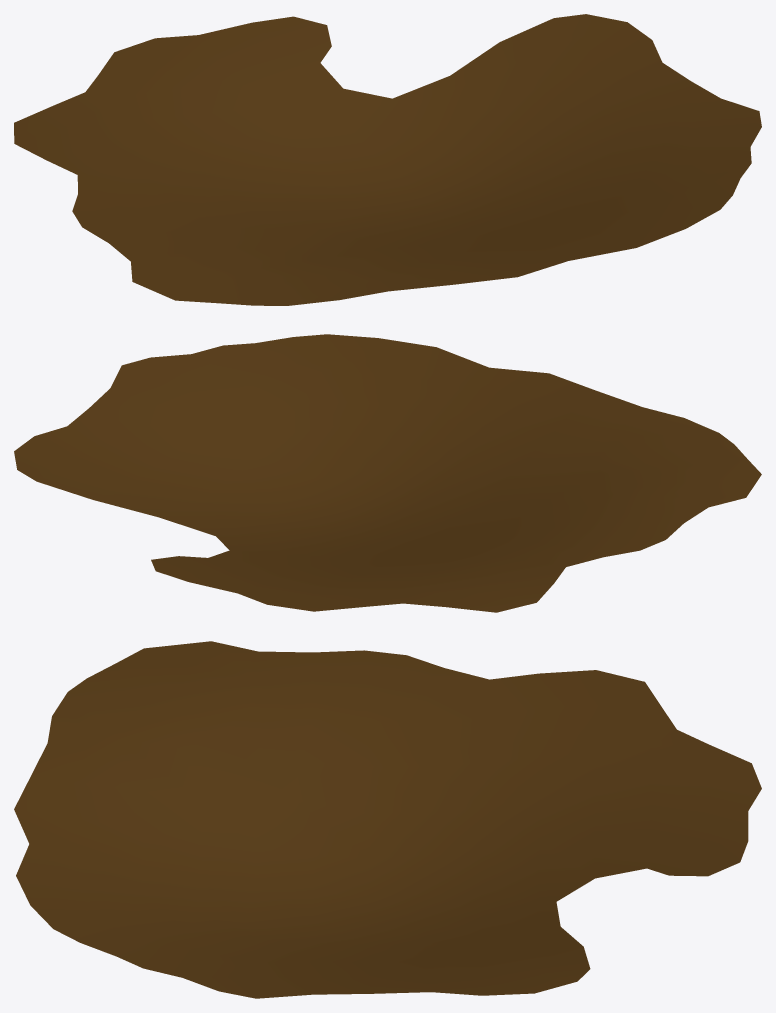
File: MudPuddle.FBX
The picture shows the model from 3 angles, top to bottom: view 1: azimuth 30°, elevation 25°; view 2: azimuth 150°, elevation 25°; view 3: azimuth 270°, elevation 25°; orthographic projection. The views are drawn at different scales.
Parts seen in each view (by area): view 1: MudPuddle; view 2: MudPuddle; view 3: MudPuddle.
Part boxes in pixels (x1=…): MudPuddle: x1=14, y1=14, x2=761, y2=305; MudPuddle: x1=14, y1=334, x2=761, y2=612; MudPuddle: x1=14, y1=641, x2=761, y2=998.
Size of the model in its own units: 7904 by 610 by 7026.
